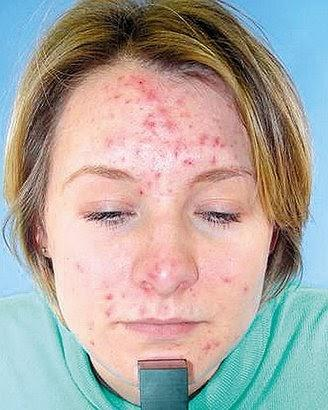Acne: (99, 76, 238, 198), (67, 257, 123, 349), (141, 254, 196, 290), (198, 328, 238, 358), (221, 274, 257, 303)
